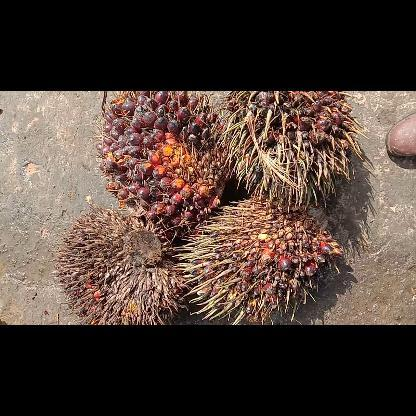Kurang masak: (219, 92, 364, 210)
TBS abnormal: (172, 194, 348, 322), (53, 206, 182, 324)
Terlalu masak: (96, 90, 224, 235)
